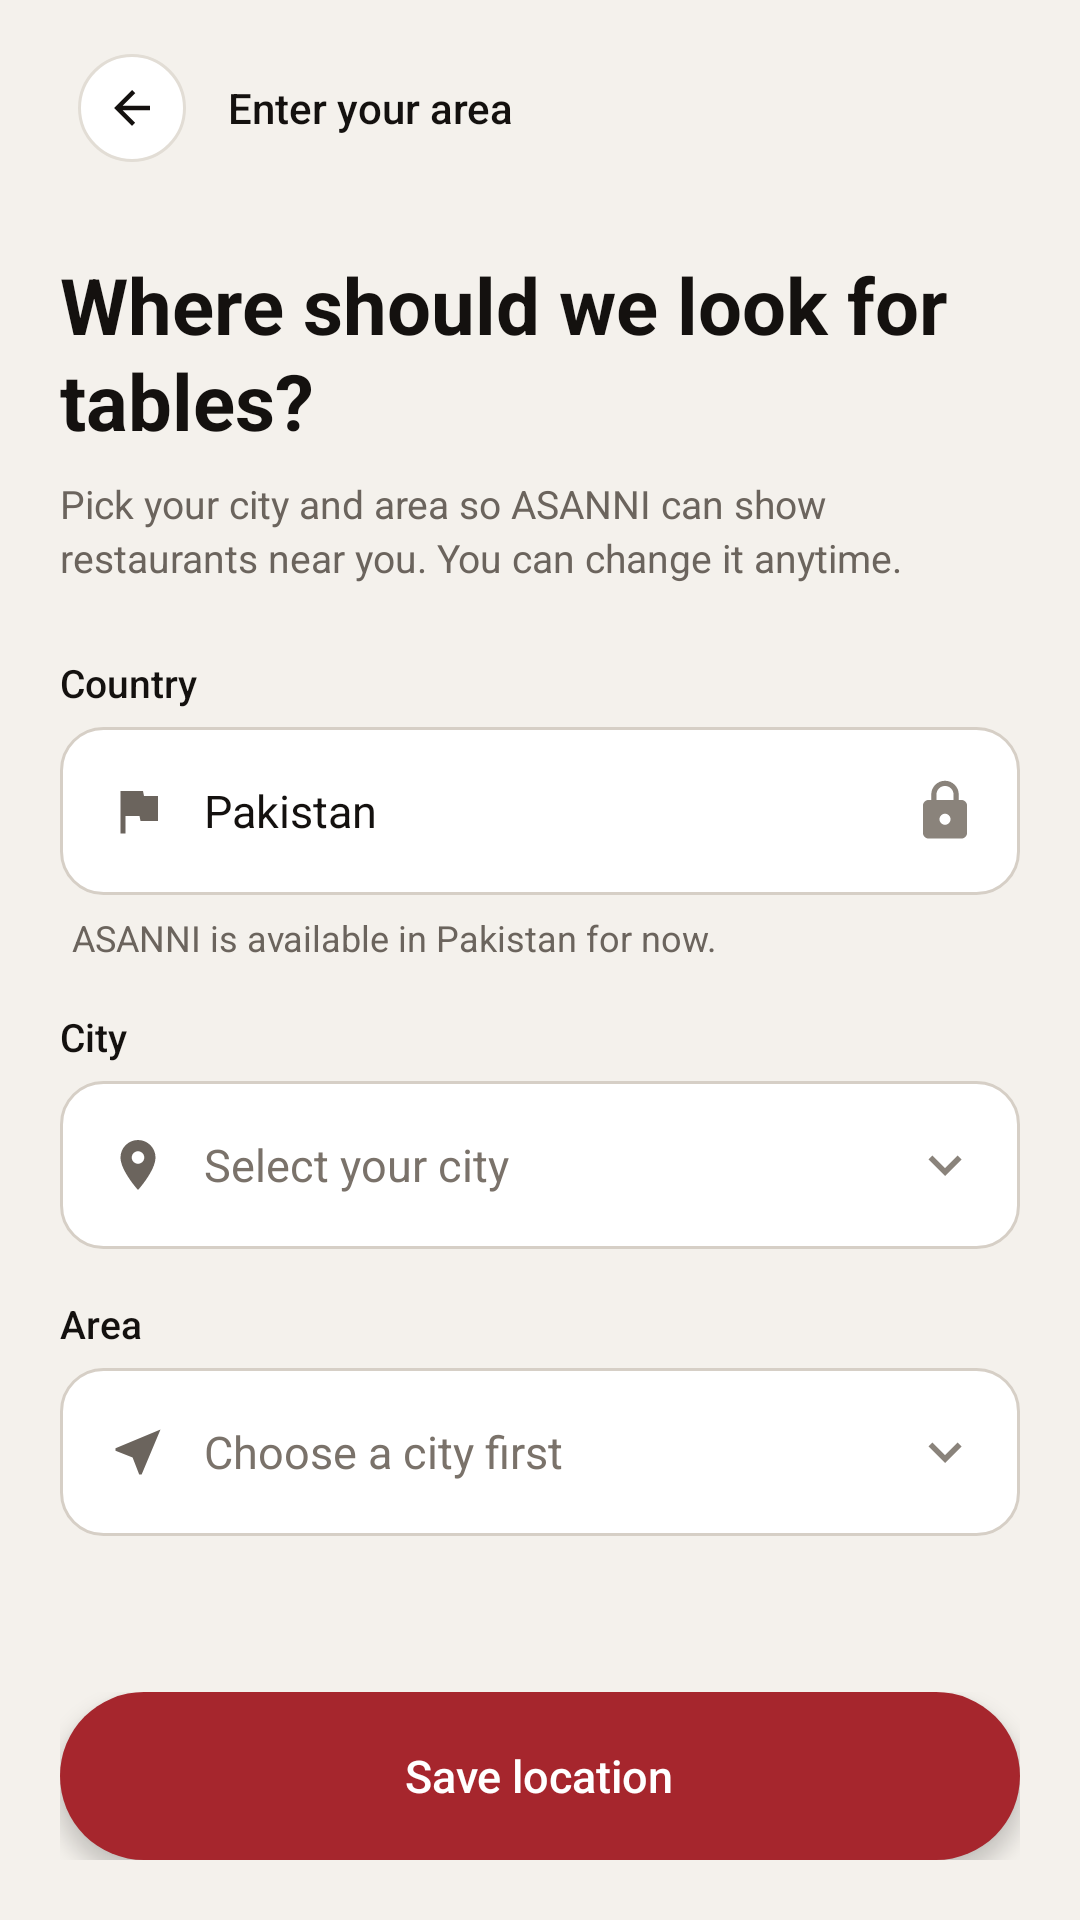

Icons on this 1080px x 1920px Android screen, each with its box as (x1, y1, x2, y2):
arrow back: (78, 54, 186, 162)
expand more: (928, 1155, 962, 1176), (928, 1442, 962, 1463)
flag: (120, 791, 158, 834)
location pin: (120, 1140, 156, 1190)
lock: (923, 780, 967, 839)
near me: (115, 1430, 160, 1475)
